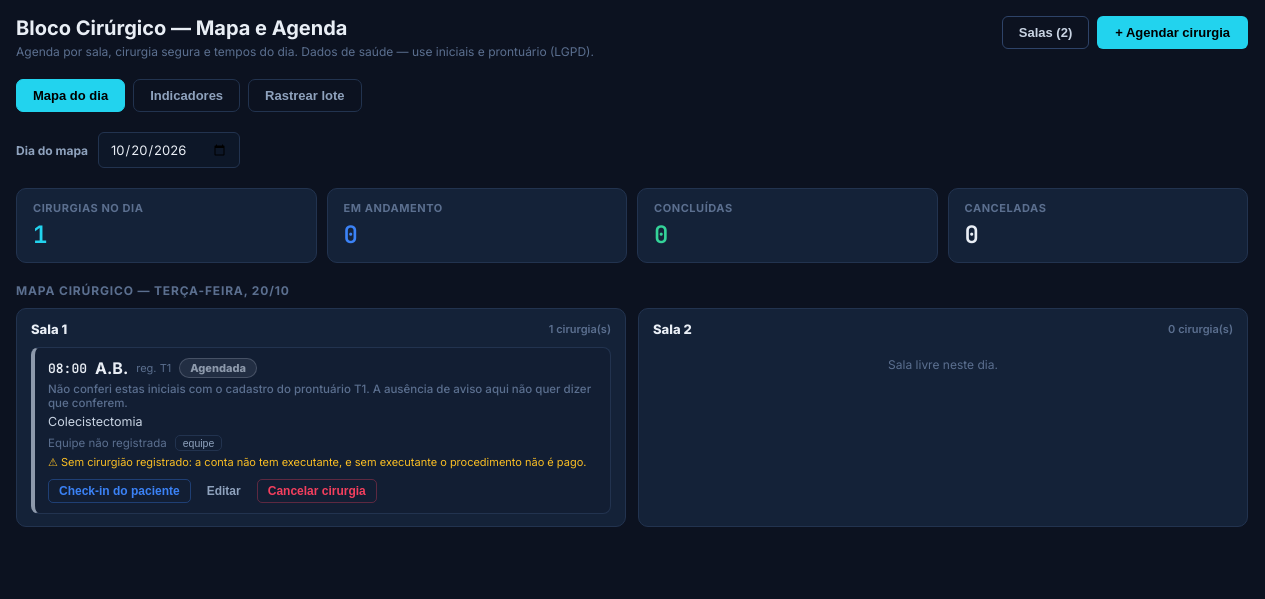
Scenario: 🔴 escrita que não se confirmou não vira trilha de auditoria › o erro aparece na tela quando a RLS barra o registro de etapa
Click the button "Check-in do paciente" at [119, 491], box [48,479,191,503]
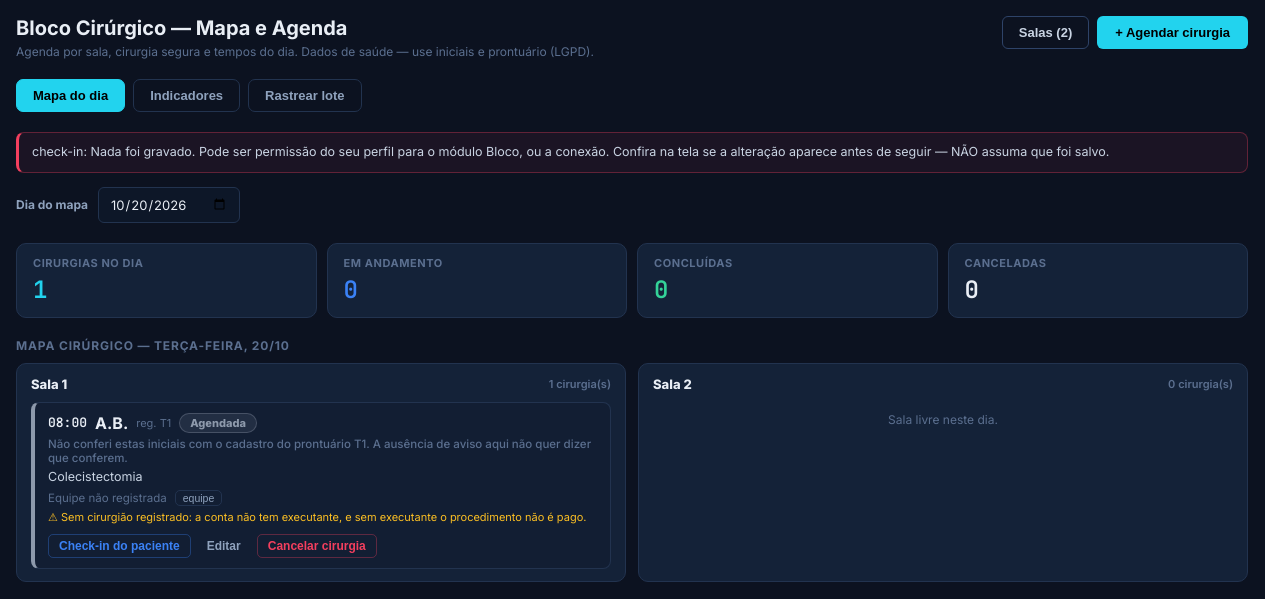
Expected: the text "Nada foi gravado" is shown, [32,144,1110,159]
